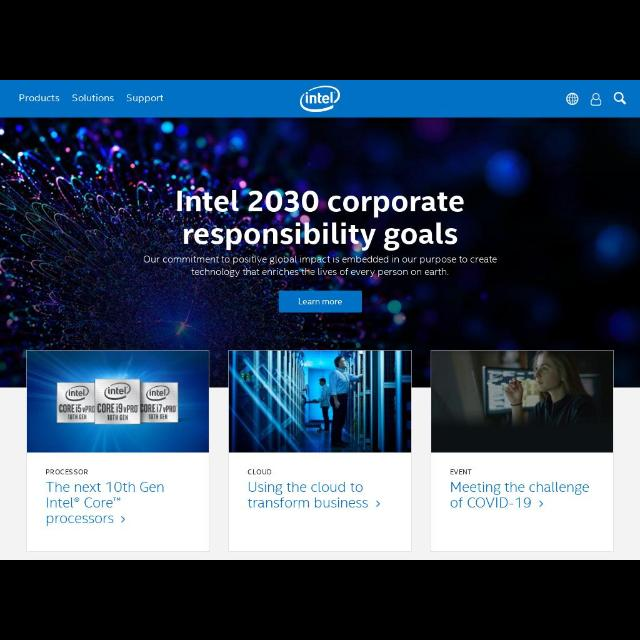backgroundimage: (1, 117, 640, 387)
icon: (612, 93, 626, 105), (566, 94, 578, 105)
image: (228, 350, 410, 452), (27, 350, 209, 452), (431, 350, 613, 452), (301, 86, 341, 112)
text: (177, 190, 465, 250), (142, 255, 498, 278), (46, 469, 164, 526), (450, 468, 590, 508), (247, 469, 381, 509), (298, 296, 342, 306), (18, 94, 60, 102), (72, 94, 114, 102), (126, 94, 164, 102), (590, 92, 602, 106)
textbutton: (278, 290, 362, 314)
toolbar: (1, 81, 640, 117)
